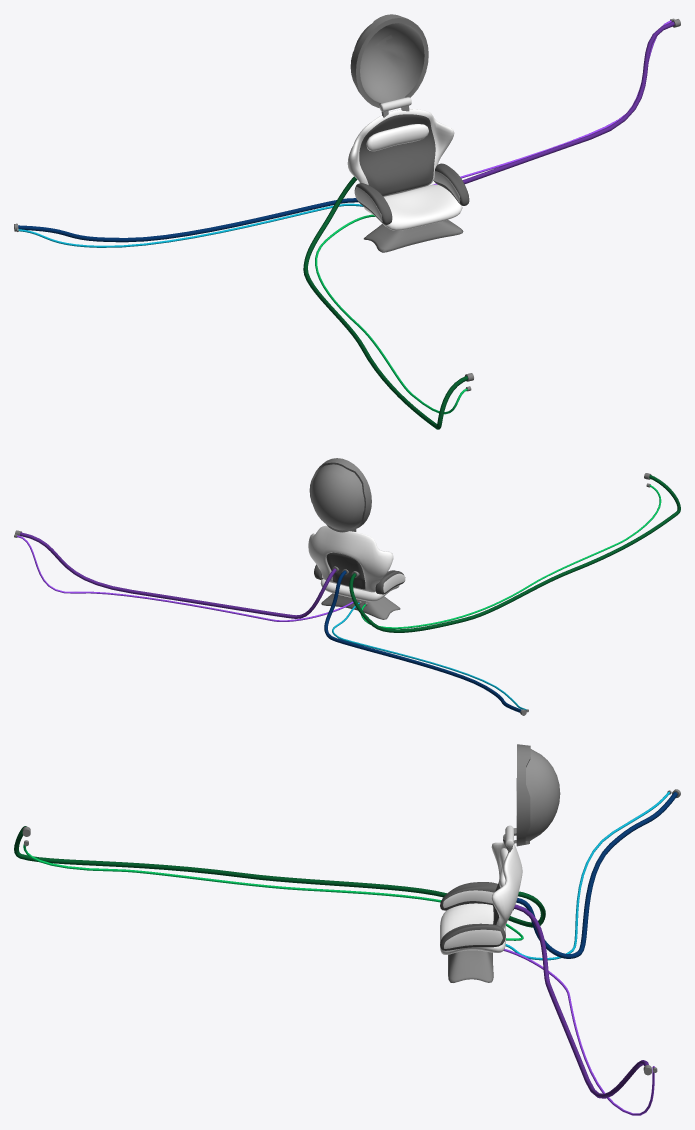
The model's file is Chair.glb.
The picture shows the model from 3 angles, top to bottom: view 1: azimuth 30°, elevation 25°; view 2: azimuth 150°, elevation 25°; view 3: azimuth 270°, elevation 25°; orthographic projection. The views are drawn at different scales.
Parts seen in each view (by area): view 1: Plane.006, Sphere.003, Silla, Cable1_About.002, Cable1_About.001, Silla.004, Plane.005, Cable1_Projects.001, Almohada.001, Cable2_About.001, Cable2_About.002; view 2: Plane.006, Sphere.003, Cable1_About.002, Cable1_Projects.001, Cable1_About.001, Cable2_Projects.001, Plane.005, Cable2_About.002, Cable2_About.001, Silla, Silla.004; view 3: Sphere.003, Cable1_About.002, Silla.004, Plane.006, Cable1_Projects.001, Silla, Cable1_About.001, Cable2_About.002, Plane.005, Cable2_Projects.001, Cable2_About.001.
Part boxes in pixels (bbox=[...]): Plane.006: bbox=[347, 109, 454, 196]; Sphere.003: bbox=[350, 14, 428, 107]; Silla: bbox=[363, 184, 462, 230]; Cable1_About.002: bbox=[303, 176, 467, 429]; Cable1_About.001: bbox=[18, 198, 358, 242]; Silla.004: bbox=[354, 163, 469, 224]; Plane.005: bbox=[363, 219, 463, 252]; Cable1_Projects.001: bbox=[462, 21, 674, 183]; Almohada.001: bbox=[366, 124, 428, 151]; Cable2_About.001: bbox=[18, 203, 363, 247]; Cable2_About.002: bbox=[315, 214, 467, 414]; Plane.006: bbox=[308, 525, 393, 592]; Sphere.003: bbox=[309, 458, 371, 532]; Cable1_About.002: bbox=[349, 475, 680, 632]; Cable1_Projects.001: bbox=[20, 532, 336, 618]; Cable1_About.001: bbox=[324, 570, 521, 712]; Cable2_Projects.001: bbox=[17, 535, 353, 621]; Plane.005: bbox=[321, 593, 400, 619]; Cable2_About.002: bbox=[360, 485, 661, 628]; Cable2_About.001: bbox=[332, 602, 526, 709]; Silla: bbox=[320, 579, 399, 601]; Silla.004: bbox=[314, 564, 405, 594]; Sphere.003: bbox=[513, 744, 560, 846]; Cable1_About.002: bbox=[14, 826, 545, 927]; Silla.004: bbox=[440, 882, 505, 950]; Plane.006: bbox=[491, 834, 522, 929]; Cable1_Projects.001: bbox=[514, 904, 648, 1098]; Silla: bbox=[440, 903, 505, 954]; Cable1_About.001: bbox=[516, 792, 677, 958]; Cable2_About.002: bbox=[23, 844, 523, 940]; Plane.005: bbox=[448, 950, 493, 982]; Cable2_Projects.001: bbox=[503, 949, 654, 1115]; Cable2_About.001: bbox=[505, 791, 669, 960].
Size of the model in its own units: 12.73 by 3.78 by 10.56.
